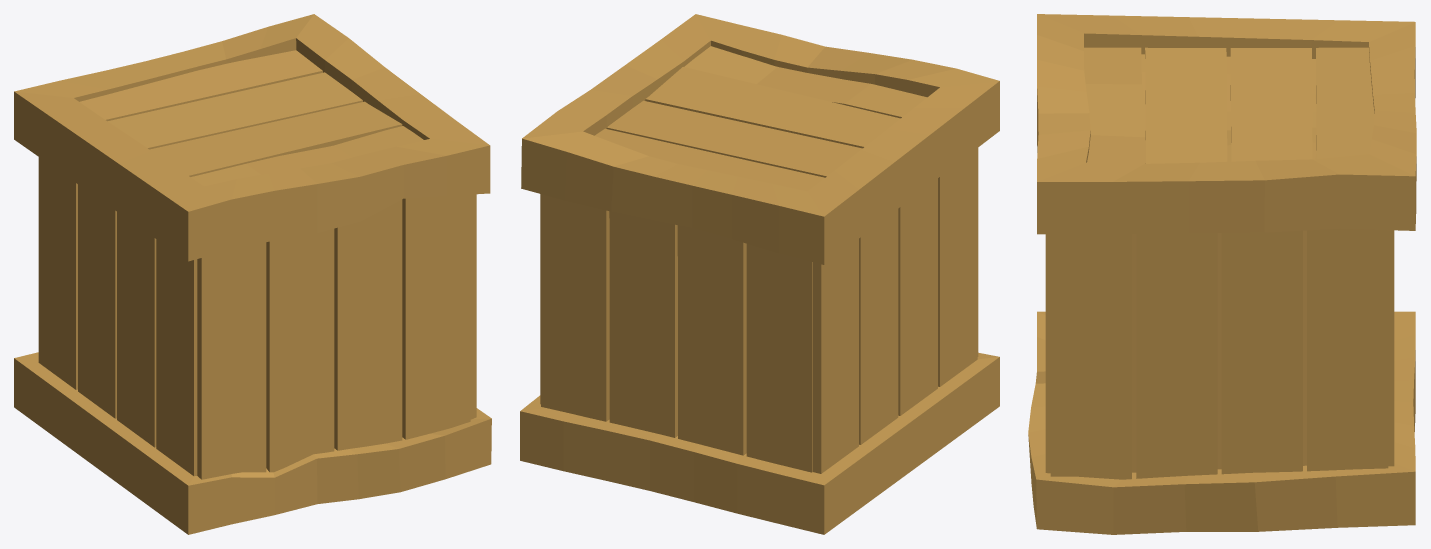
Rendered from wooden_container.fbx.
3 views of the same model, side by side, from view 1: azimuth 30°, elevation 25°; view 2: azimuth 150°, elevation 25°; view 3: azimuth 270°, elevation 25° (orthographic). The views are drawn at different scales.
Parts seen in each view (by area): view 1: Cube.001; view 2: Cube.001; view 3: Cube.001.
Part boxes in pixels (<box>): Cube.001: <box>14,14,491,534</box>; Cube.001: <box>520,14,999,534</box>; Cube.001: <box>1028,14,1416,534</box>.
Size of the model in its own units: 206 by 210 by 205.
